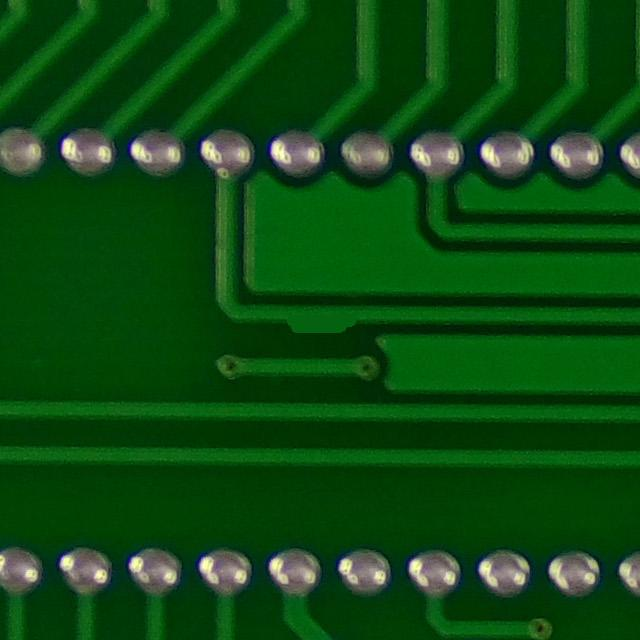spur: (274, 292, 366, 348)
